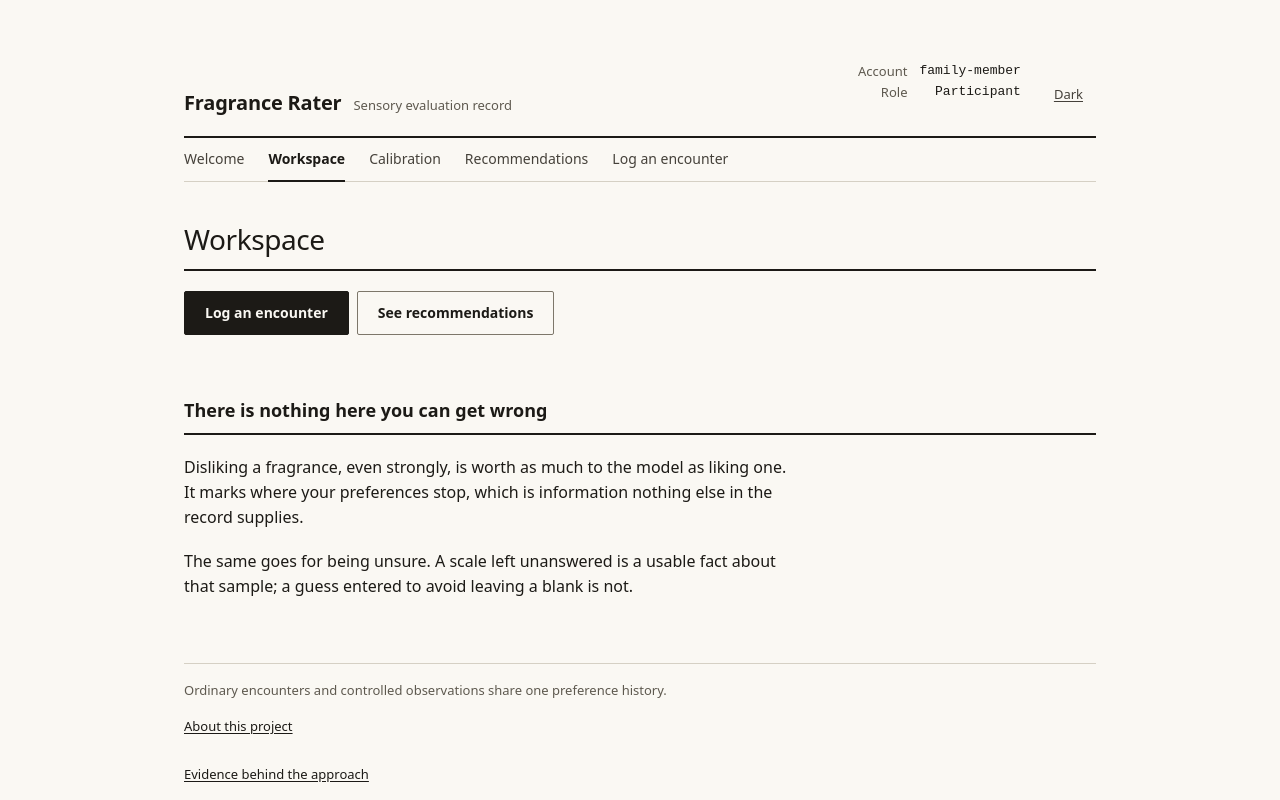
Test: WorkspacePage › navigates to the log-an-encounter page when "Log an encounter" is clicked
This screenshot has width=1280, height=800.
Click the button "Log an encounter".
click(266, 313)  # box x1=184 y1=291 x2=349 y2=335
(page scrolled)
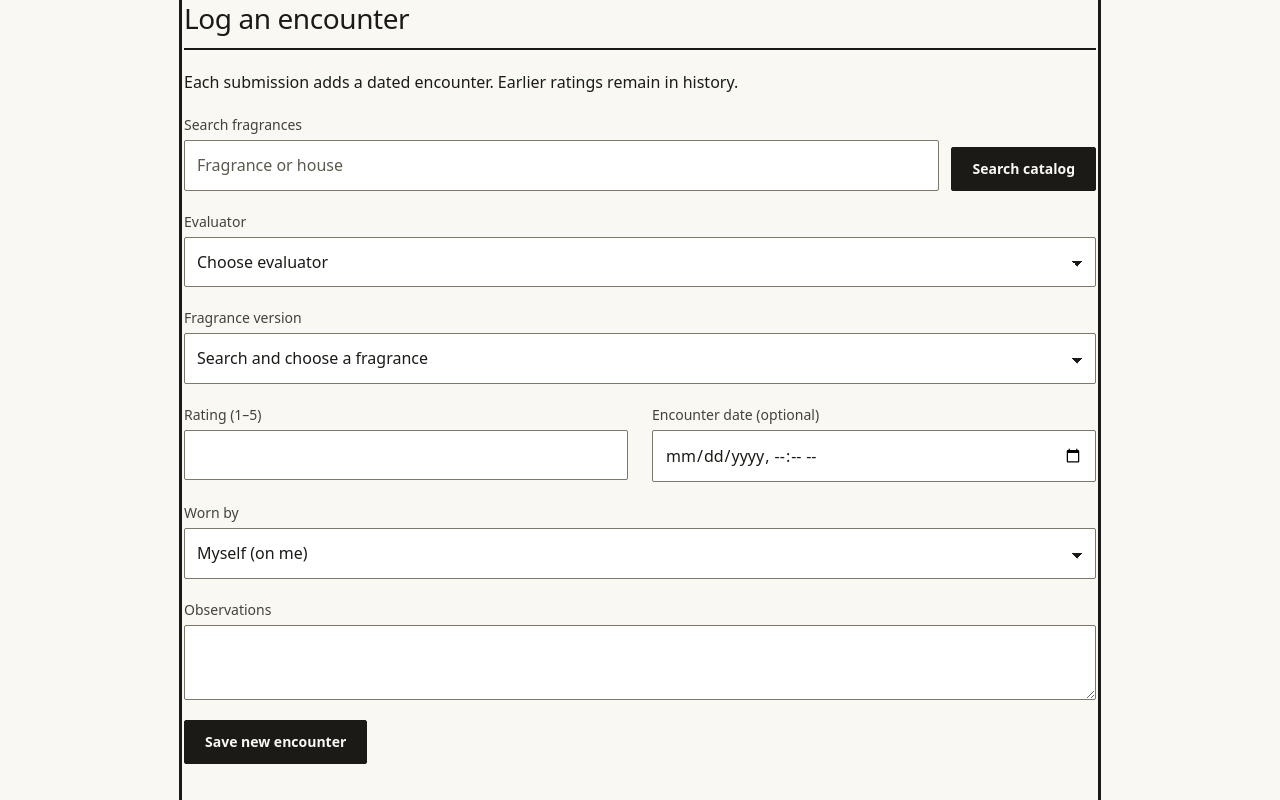
Now the heading "Log an encounter" is shown, box x1=184 y1=1 x2=409 y2=36
